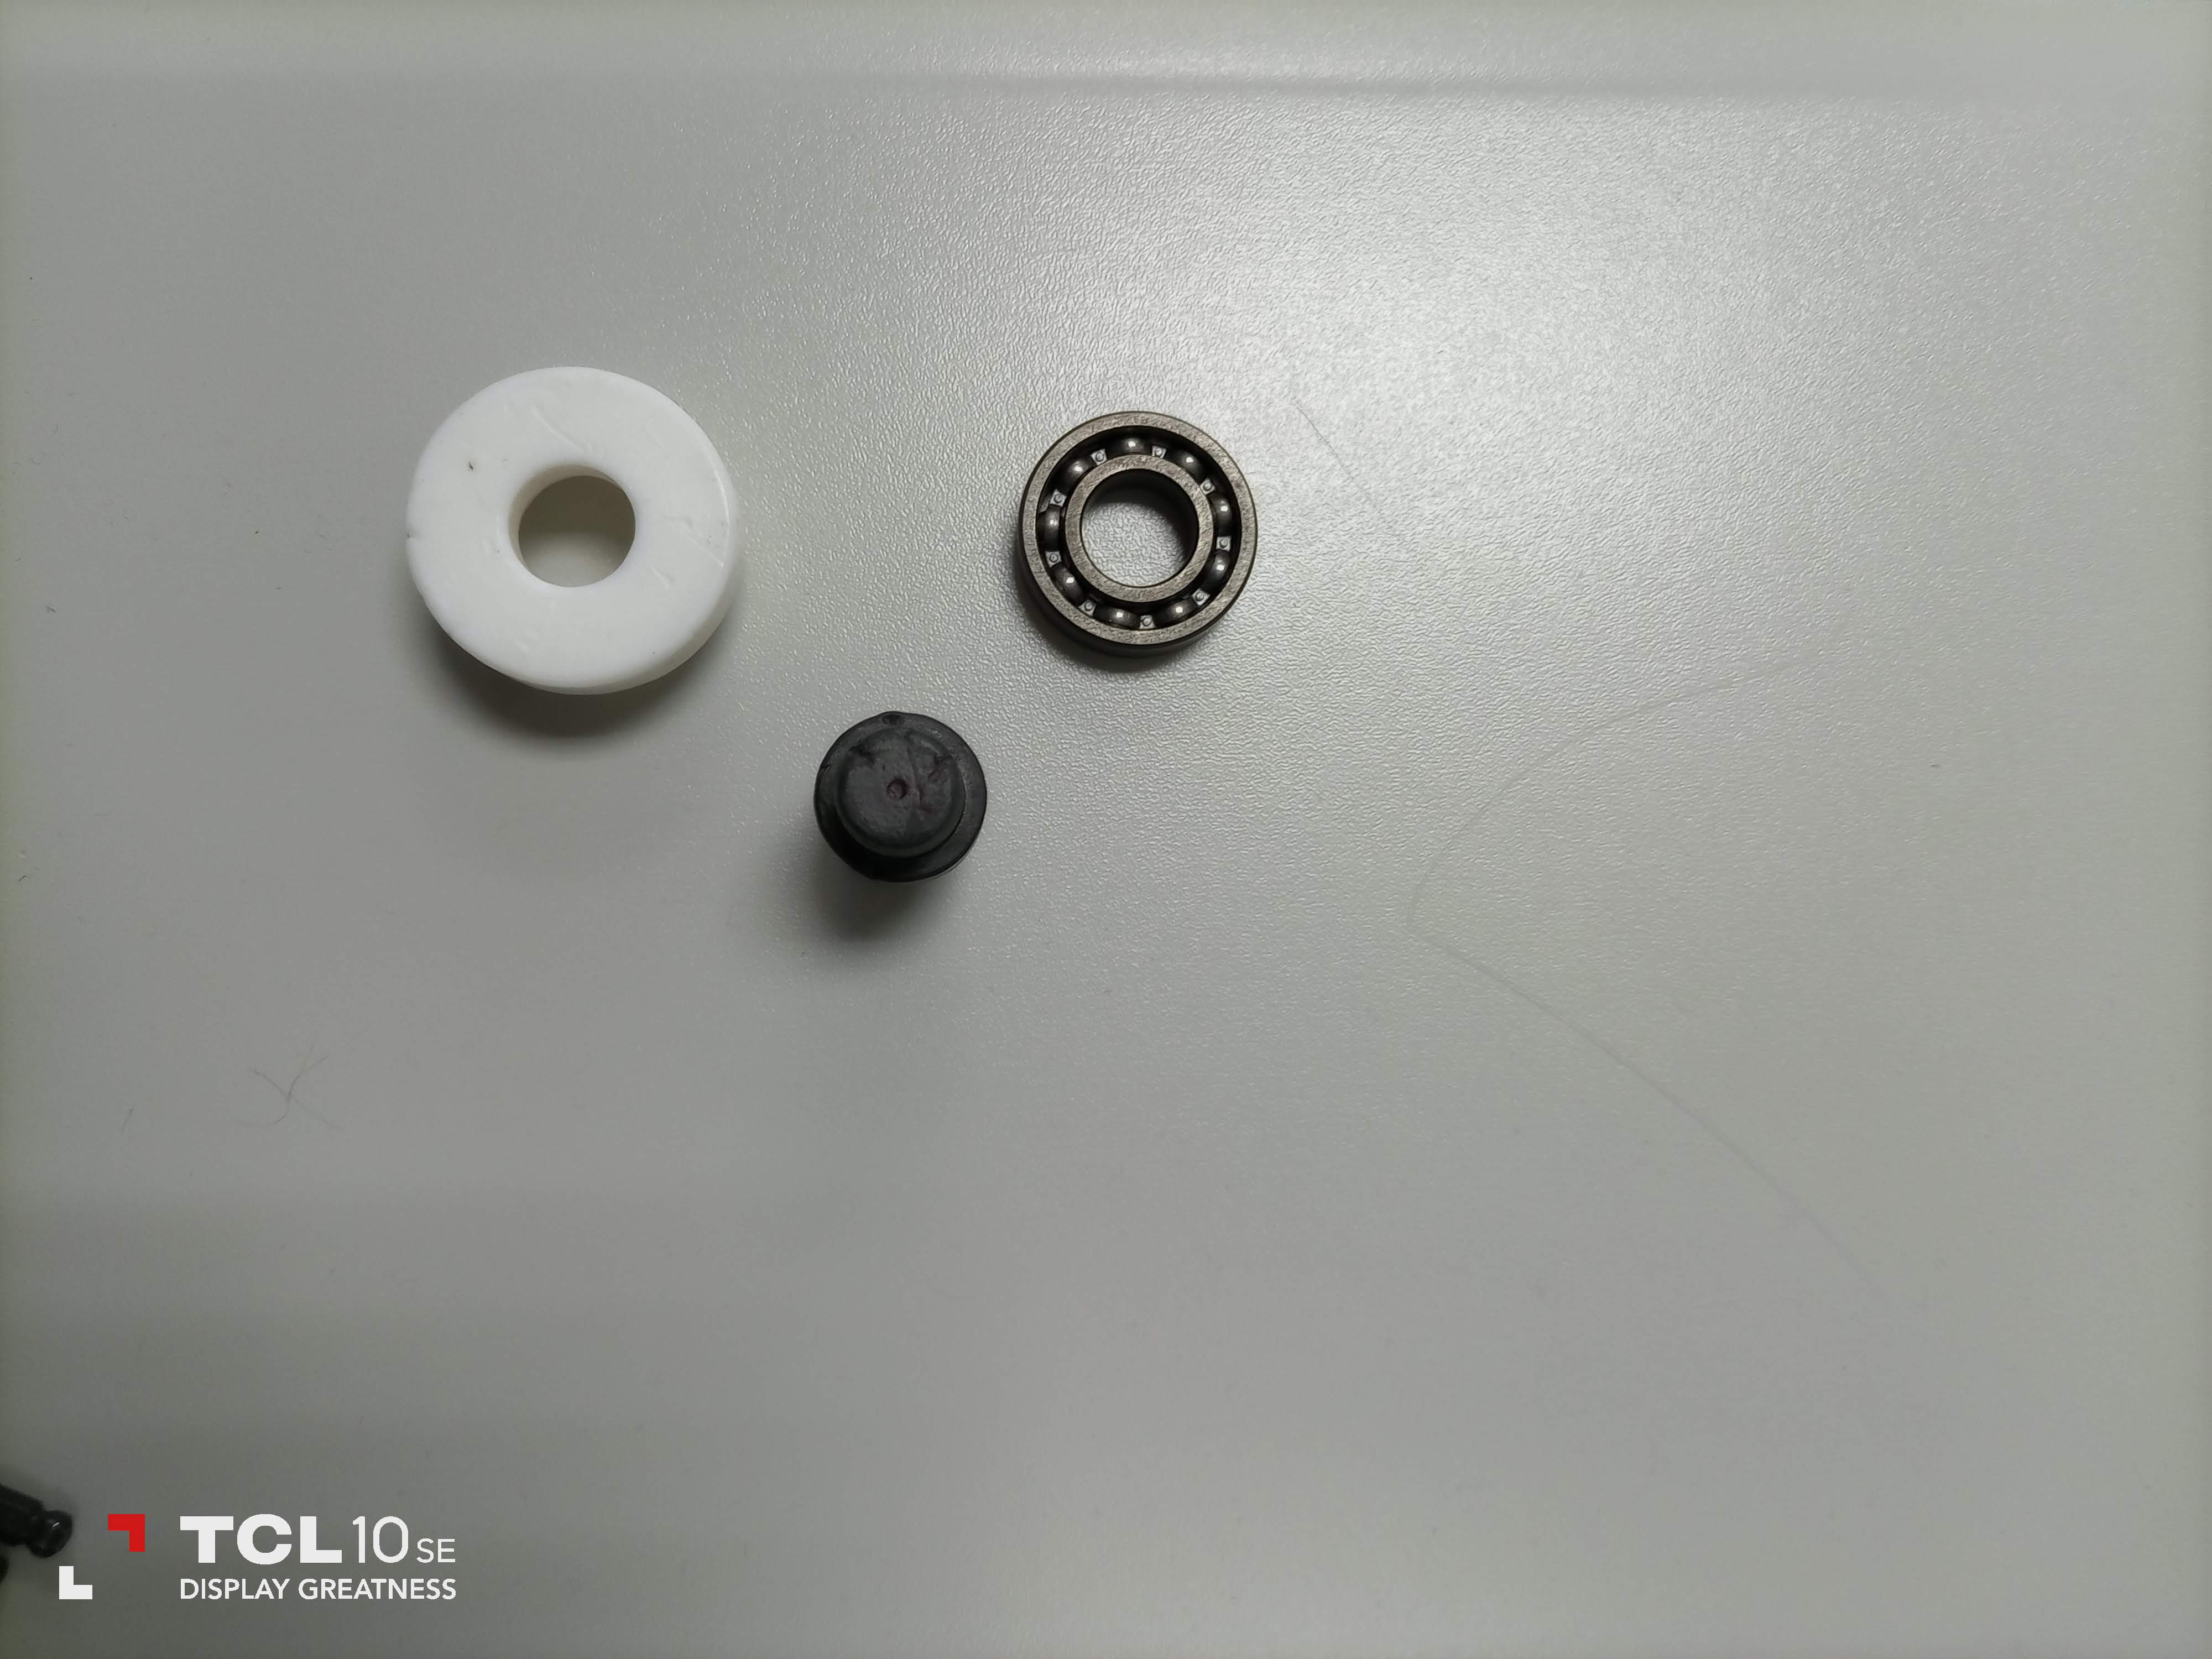Ardatza: (810, 708, 988, 877)
Roda: (1012, 406, 1261, 660)
Tapa: (404, 364, 728, 697)
